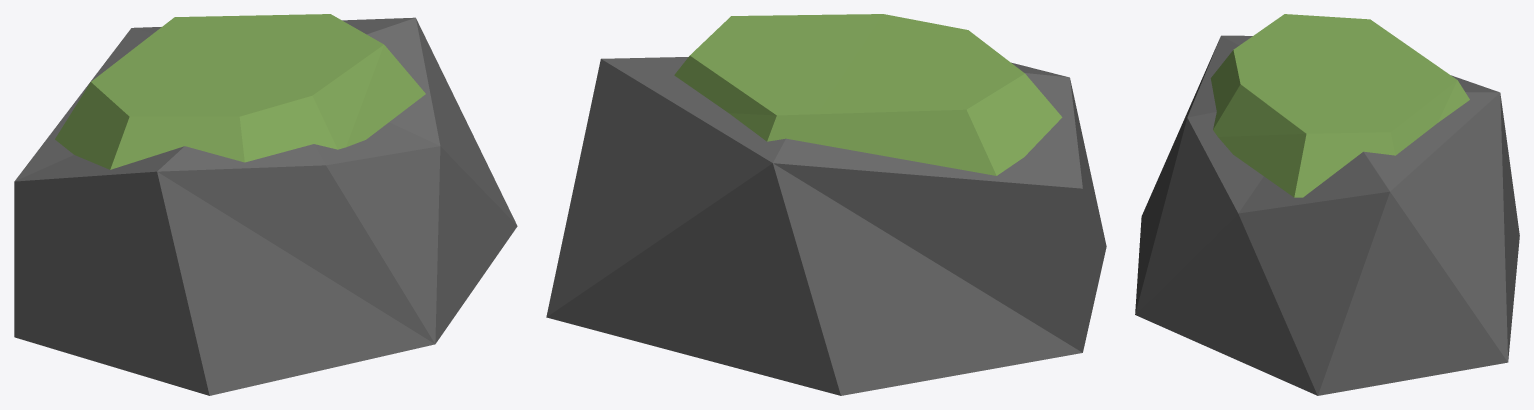
File: Rock_Small_Moss_04.fbx
3 views of the same model, side by side, from view 1: azimuth 30°, elevation 25°; view 2: azimuth 150°, elevation 25°; view 3: azimuth 270°, elevation 25° (orthographic). The views are drawn at different scales.
Parts seen in each view (by area): view 1: Rock_Small_Moss_04; view 2: Rock_Small_Moss_04; view 3: Rock_Small_Moss_04.
Part boxes in pixels (<box>): Rock_Small_Moss_04: <box>14,14,517,395</box>; Rock_Small_Moss_04: <box>546,14,1106,395</box>; Rock_Small_Moss_04: <box>1135,14,1519,395</box>.
Size of the model in its own units: 952 by 514 by 710.
